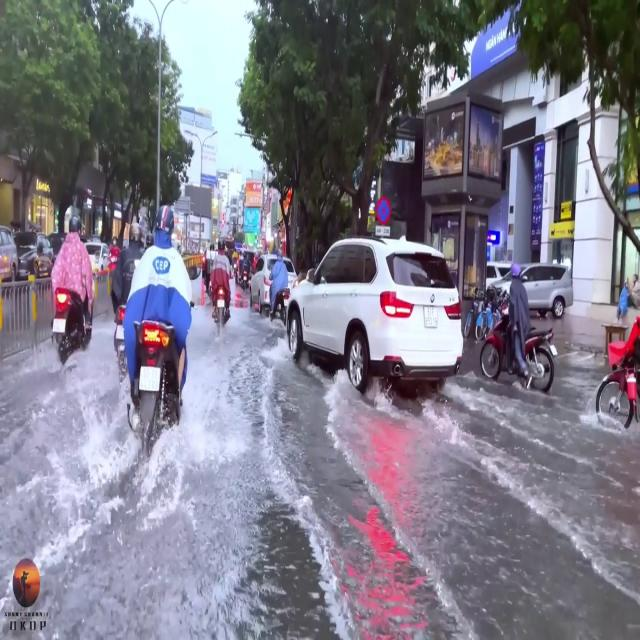bien_trang: (423, 304, 439, 331)
